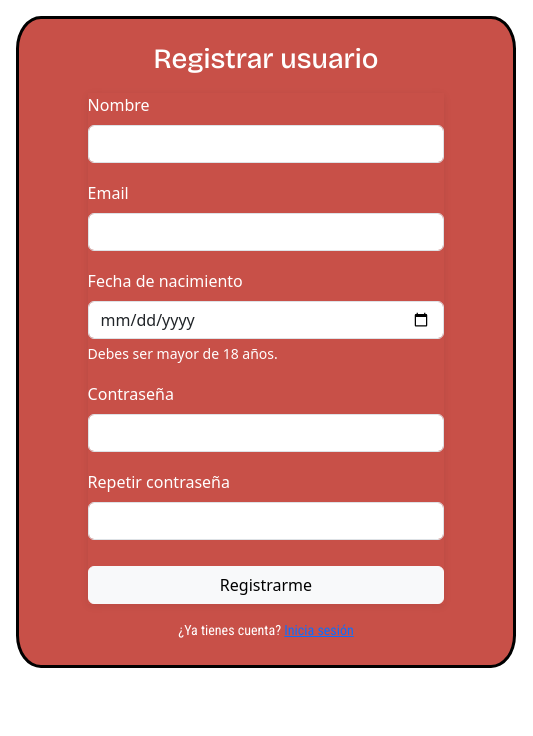
Registro Page › rechaza un correo ya registrado
The image size is (533, 736).
In the field labelled "Nombre": (266, 144) [88,125,444,163], type "Ash Ketchum"
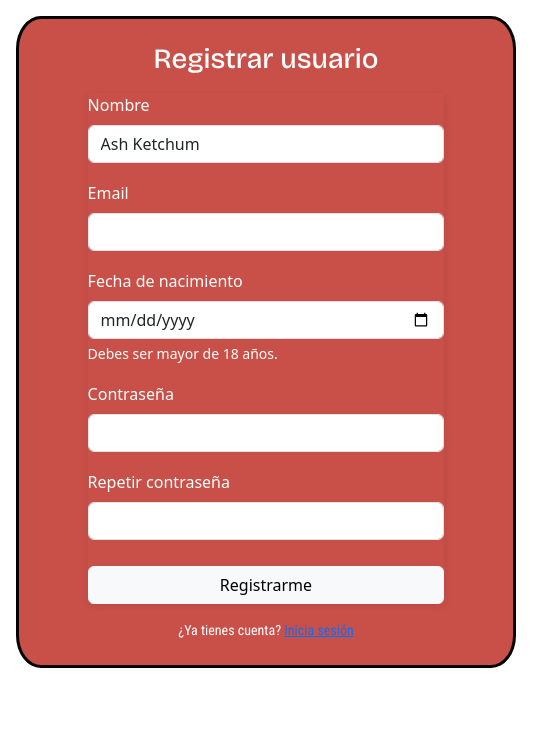
In the field labelled "Email": (266, 232) [88,213,444,251], type "entrenador@duoc.cl"
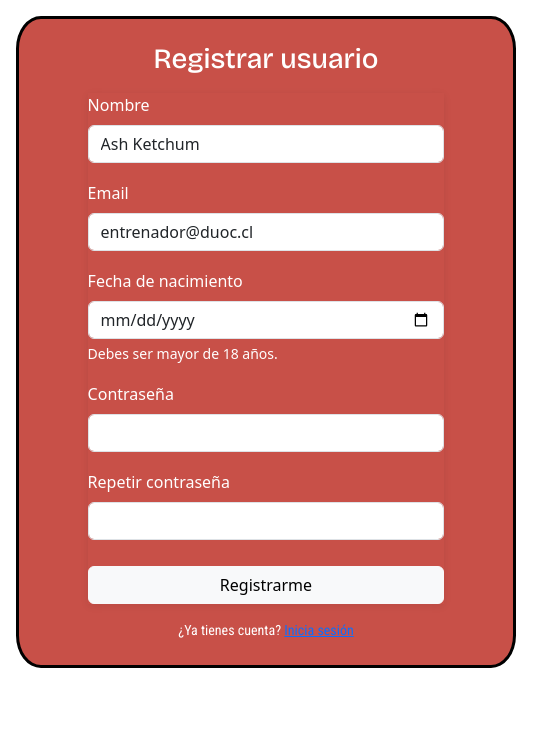
In the date field labelled "Fecha de nacimiento": (266, 320) [88,301,444,339], type "2000-05-20"
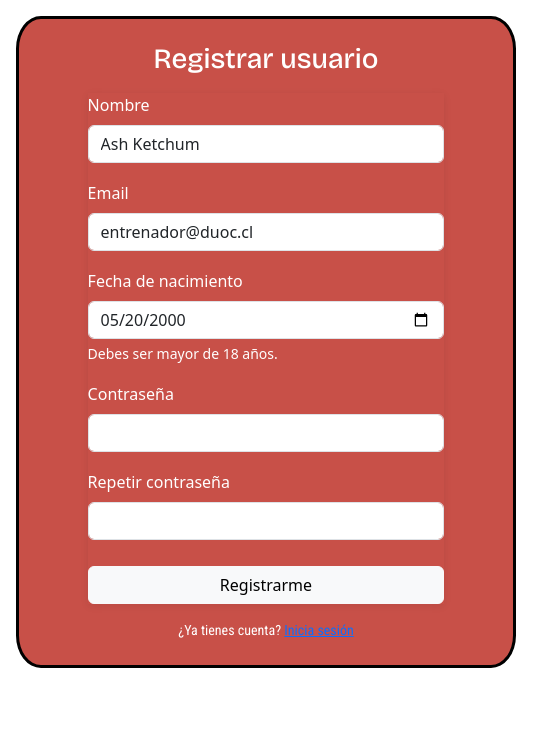
In the password field labelled "Contraseña": (266, 433) [88,414,444,452], type "pika1"
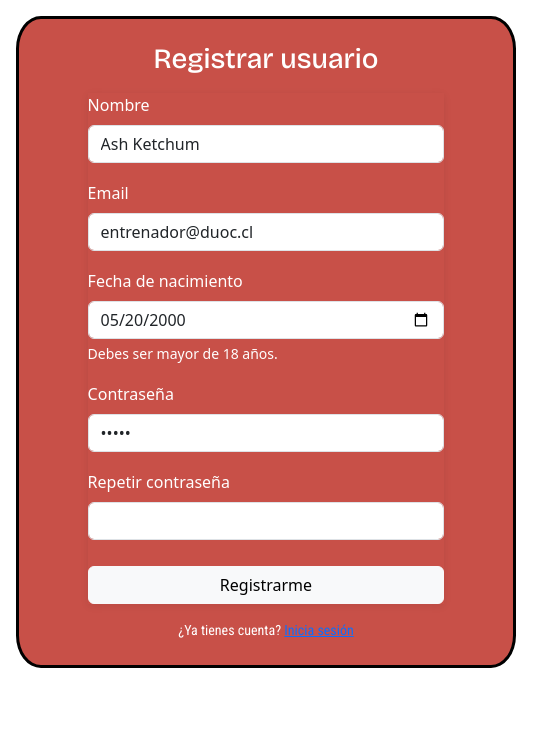
In the password field labelled "Repetir contraseña": (266, 521) [88,502,444,540], type "pika1"
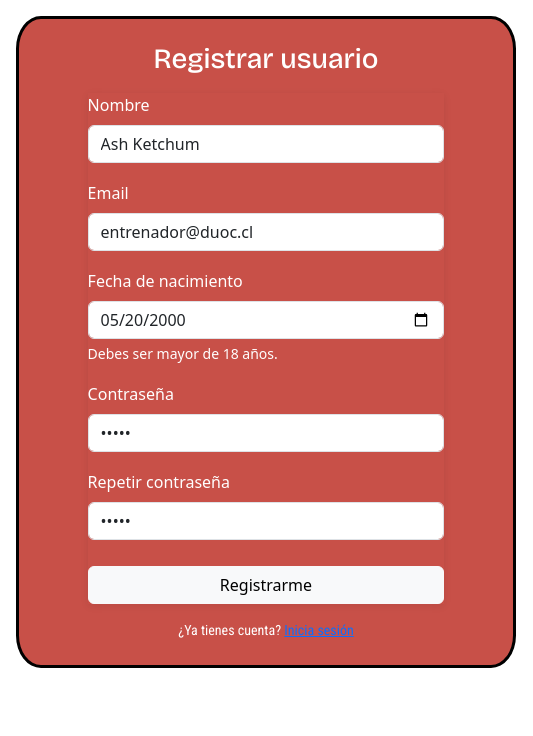
Click the button "Registrarme": (266, 585) [88,566,444,604]
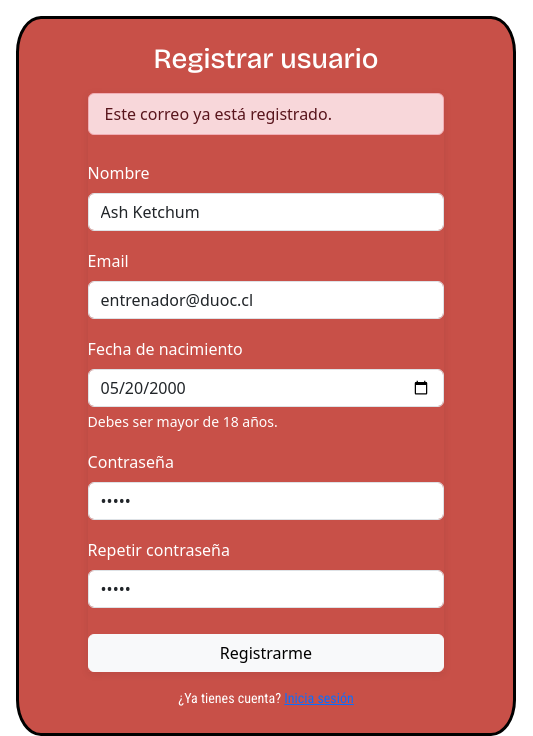
Expected: the text "Este correo ya está registrado." is shown, [88,93,444,135]
